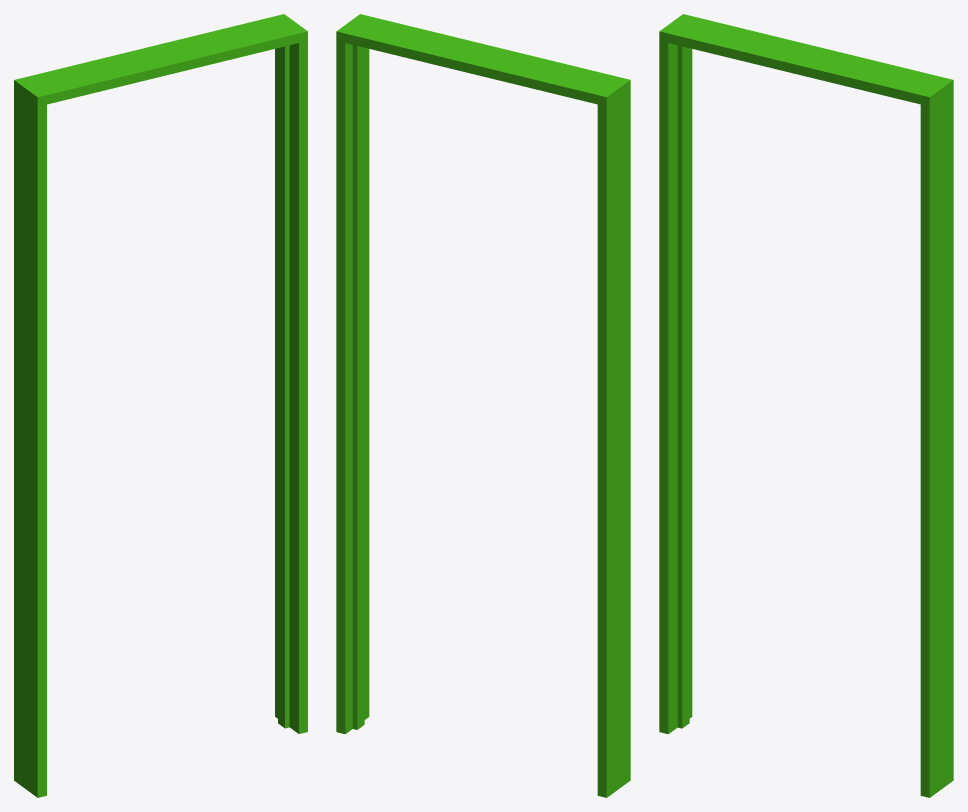
Rendered from SimpleDoor_Frame_02.fbx.
The picture shows the model from 3 angles, left to right: view 1: azimuth 30°, elevation 25°; view 2: azimuth 150°, elevation 25°; view 3: azimuth 330°, elevation 25°; orthographic projection.
Parts seen in each view (by area): view 1: Door_Simple_Frame_02; view 2: Door_Simple_Frame_02; view 3: Door_Simple_Frame_02.
Part boxes in pixels (box(x1,y1,x2,y2)): Door_Simple_Frame_02: box(14, 14, 307, 797); Door_Simple_Frame_02: box(336, 14, 630, 797); Door_Simple_Frame_02: box(659, 14, 953, 797).
Bounding box in the file's own units: 29.53 × 4.52 × 73.15.
